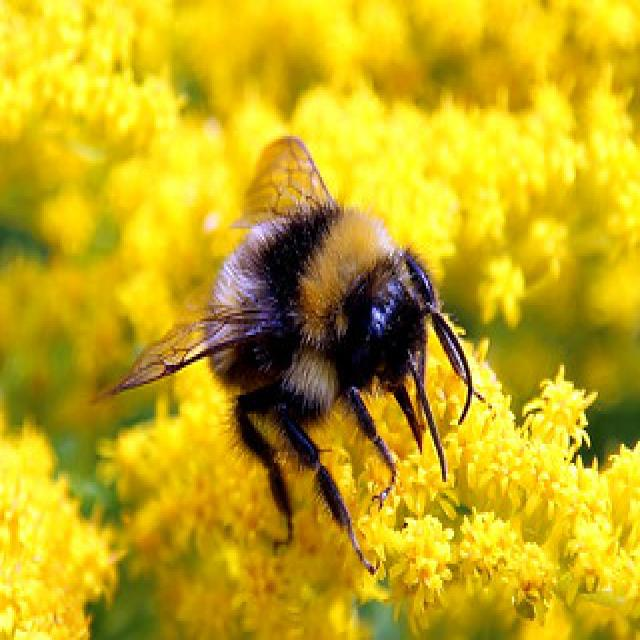Abeille: (93, 121, 500, 567)
